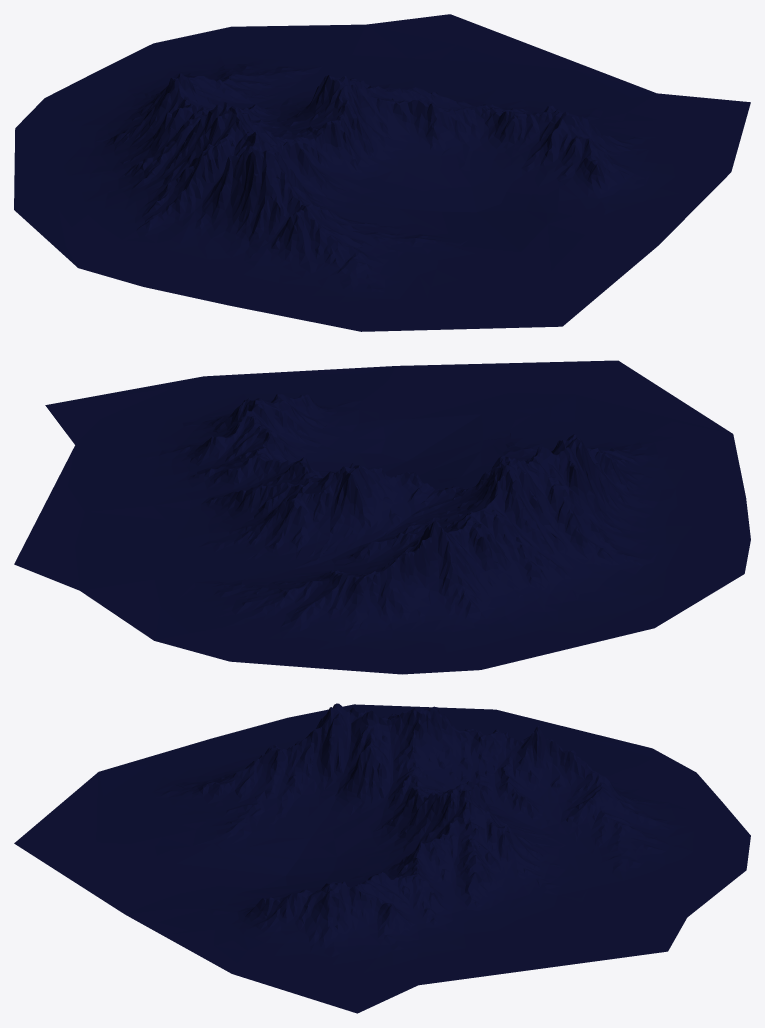
The model's file is Mountain.glb.
3 views of the same model, one above another, from view 1: azimuth 30°, elevation 25°; view 2: azimuth 150°, elevation 25°; view 3: azimuth 270°, elevation 25° (orthographic). The views are drawn at different scales.
Visible parts, largest first — view 1: Plane; view 2: Plane; view 3: Plane.
Boxes of the visible parts, x1,y1,x2,y2 form: Plane: (14, 14, 750, 331); Plane: (14, 360, 750, 674); Plane: (14, 703, 750, 1013).
Size of the model in its own units: 9.05 by 1.22 by 9.12.
